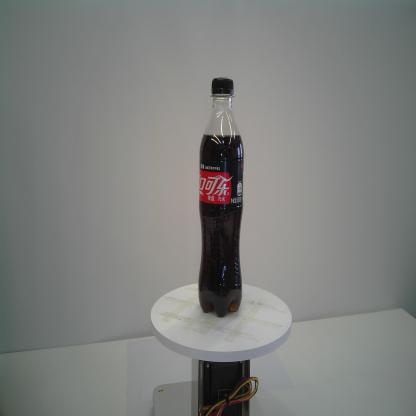Drink: (196, 76, 245, 322)
